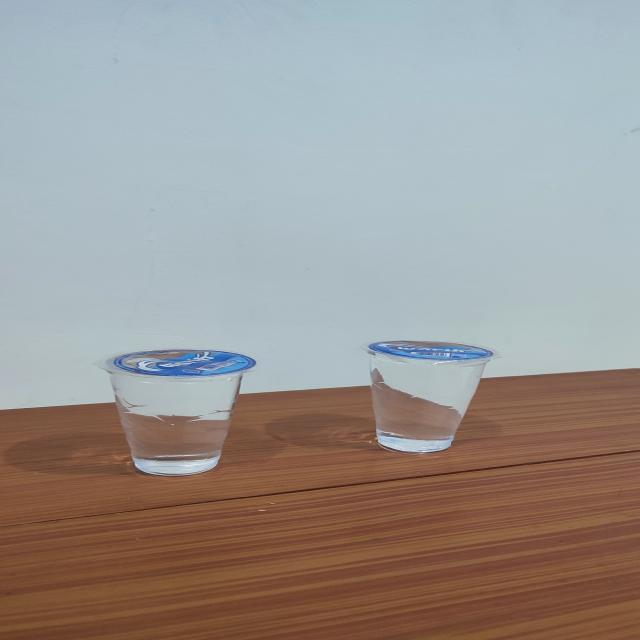air gelas: (93, 343, 262, 487), (359, 330, 502, 459)
